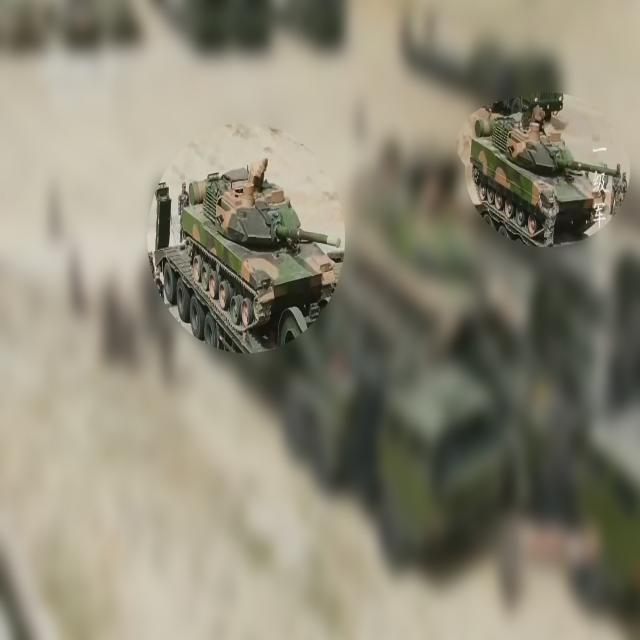tank: (147, 151, 345, 353), (461, 91, 631, 247)
